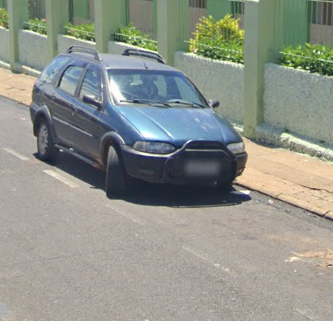car: (28, 42, 251, 209)
